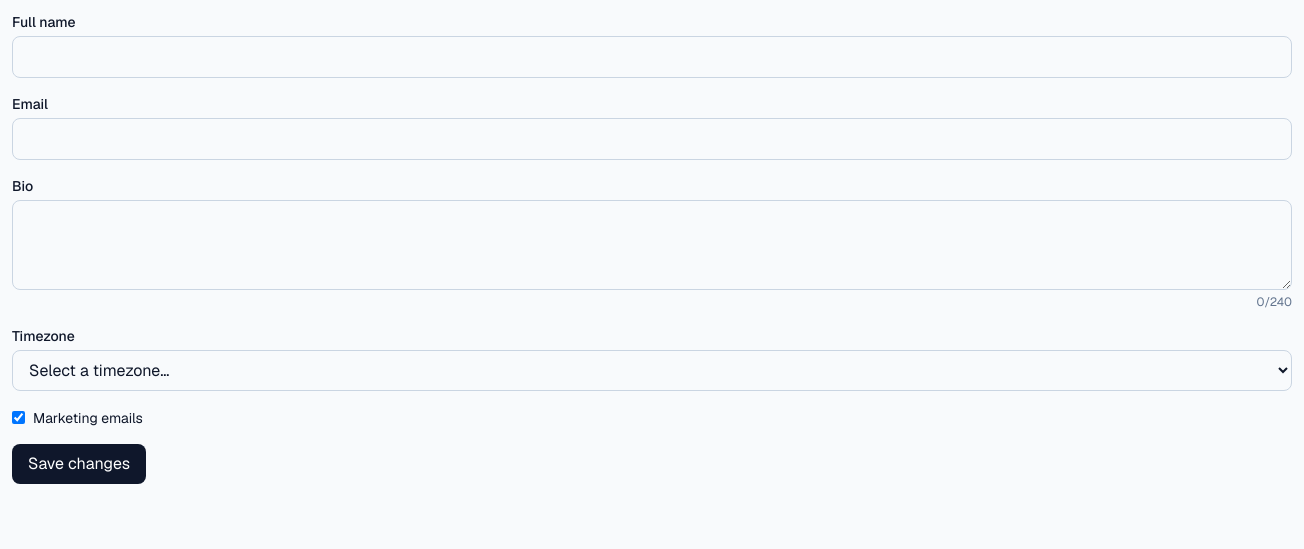
Test: SettingsForm › rejects an invalid email format
The width and height of the screenshot is (1304, 549).
Type "Rajin Shahriar" into the field labelled "Full name". click: (652, 57)
box: [12,36,1292,78]
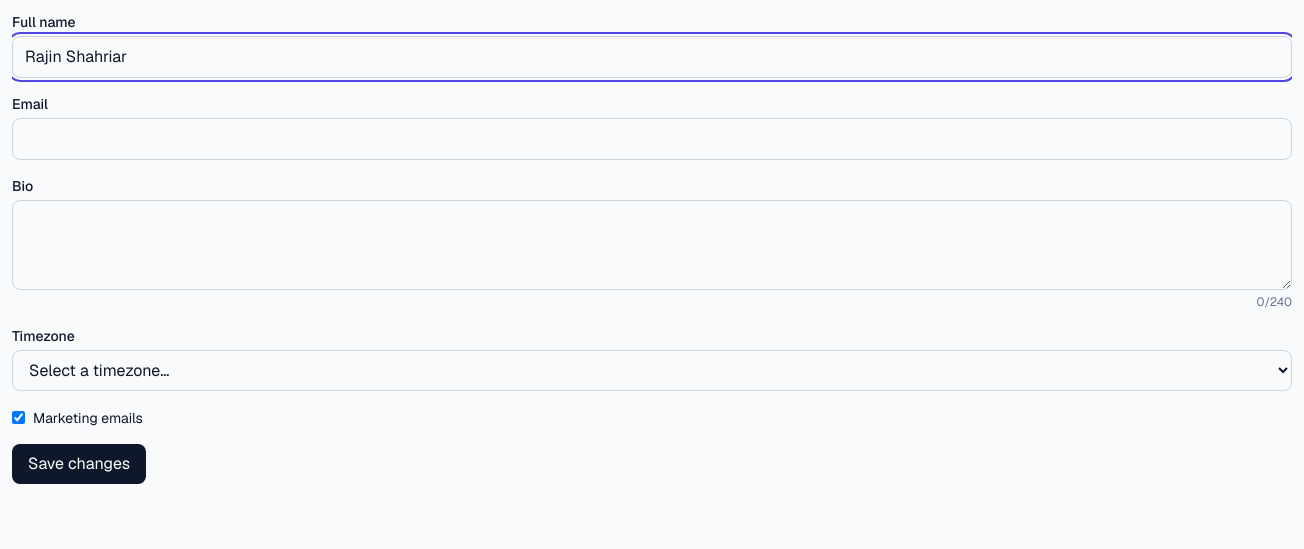
Type "not-an-email" into the field labelled "Email". click: (652, 139)
box: [12,118,1292,160]
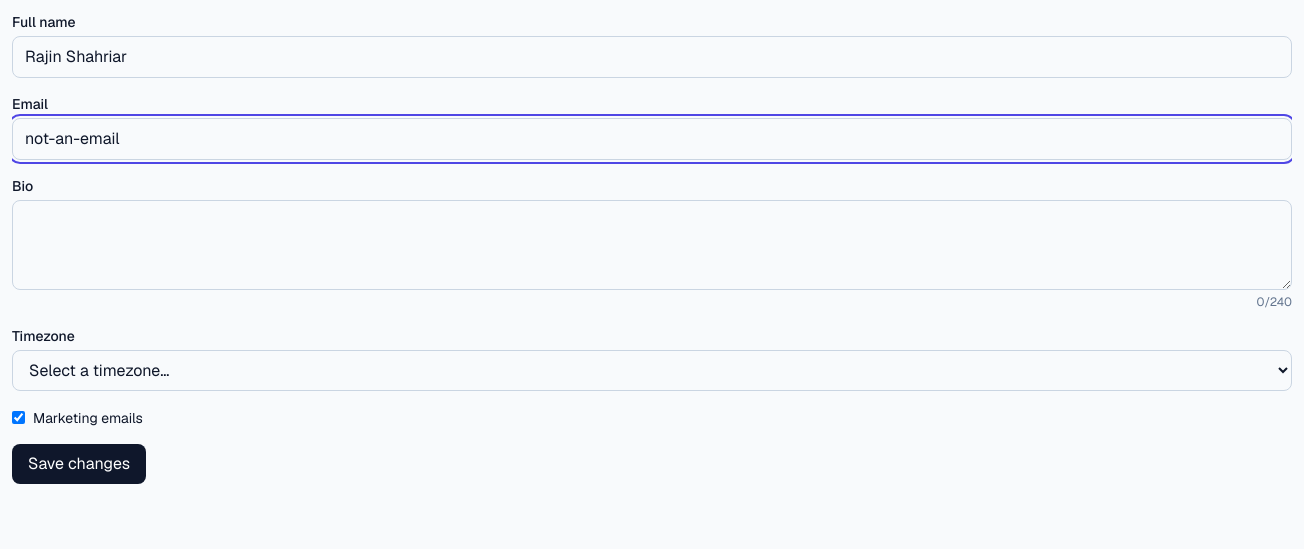
Click the button "Save changes". click: (79, 464)
box: [12,444,146,484]
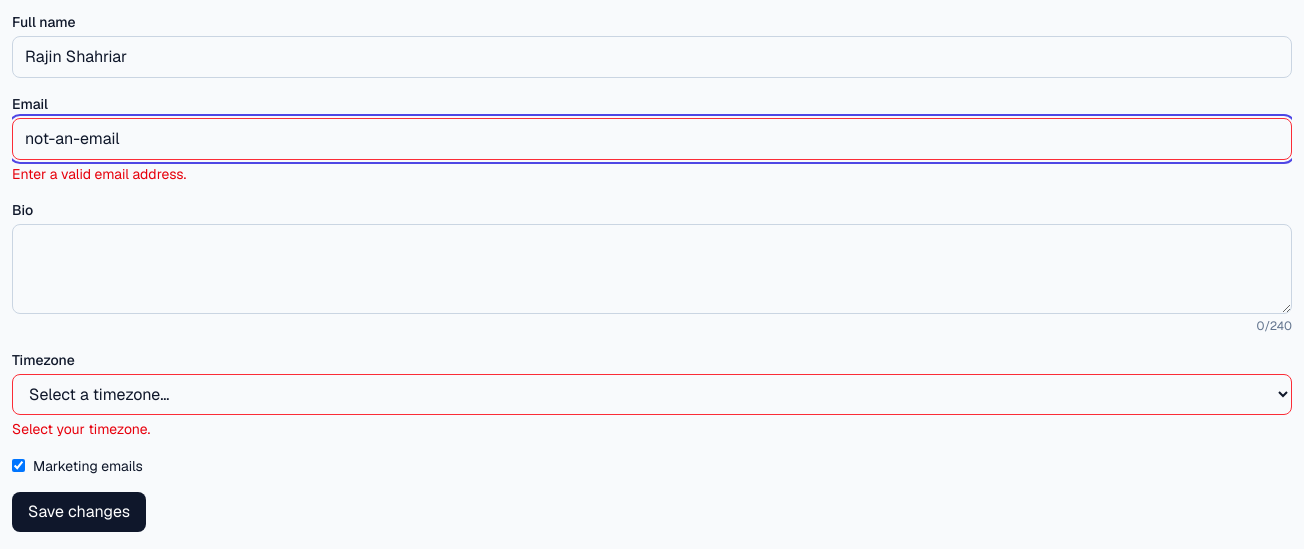
Now the text "Enter a valid email address." is shown, box [12,165,186,183]
